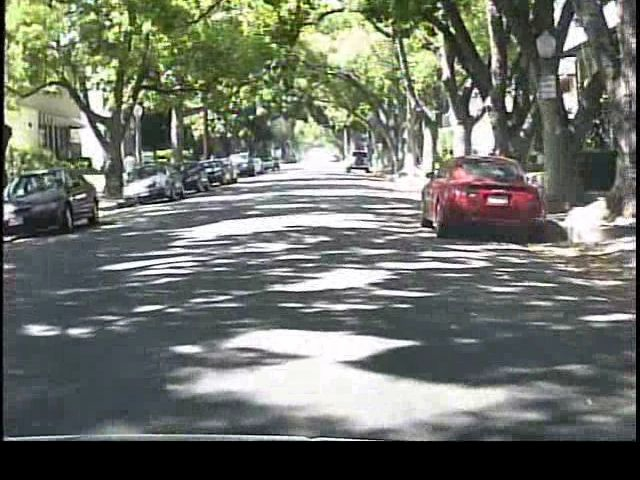person: (121, 147, 143, 194)
